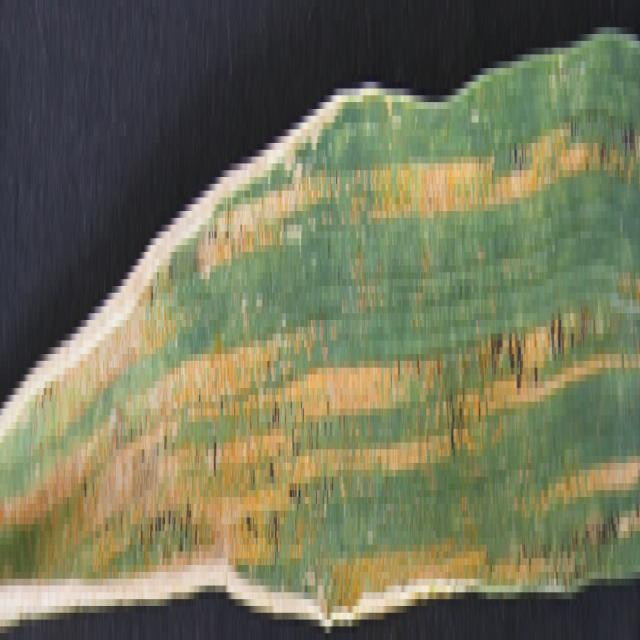leaf rust: (7, 7, 638, 640)
